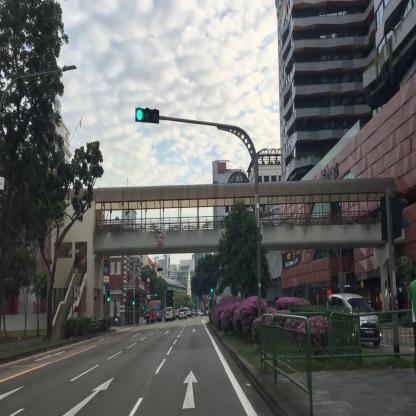green_traffic_light: (134, 108, 159, 124)
